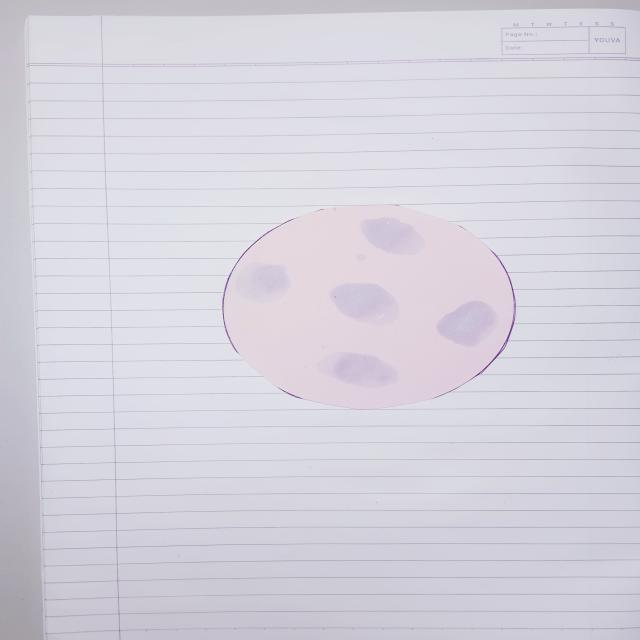BlueColor: (331, 284, 399, 325), (319, 353, 398, 388), (438, 301, 497, 347), (361, 218, 424, 255), (235, 262, 291, 303)
